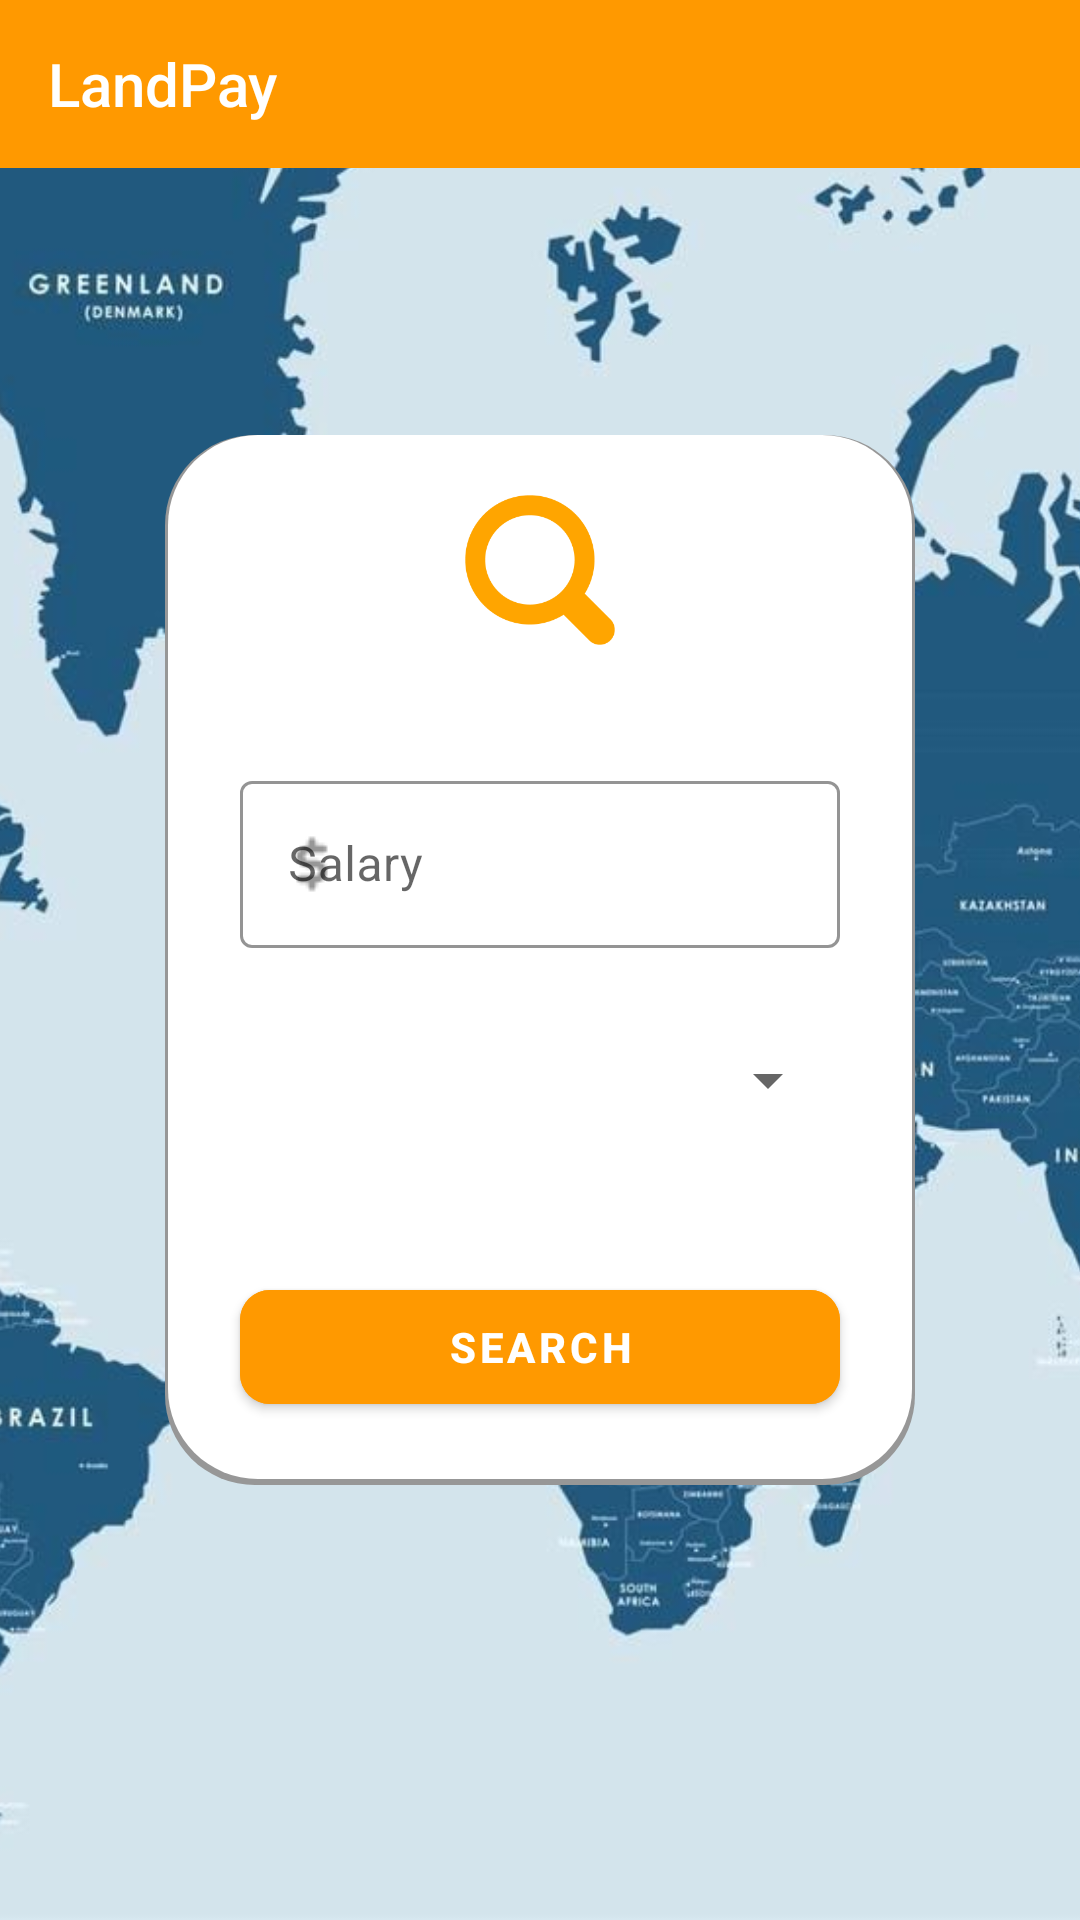

Where icons sit on this 1080 x 1920 app screen, as (x1, y1, x2, y2):
search empty: (465, 495, 615, 645)
